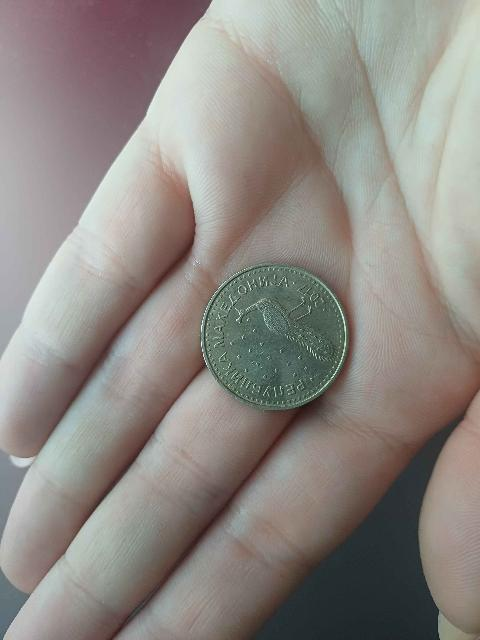10_coin: (202, 264, 348, 409)
